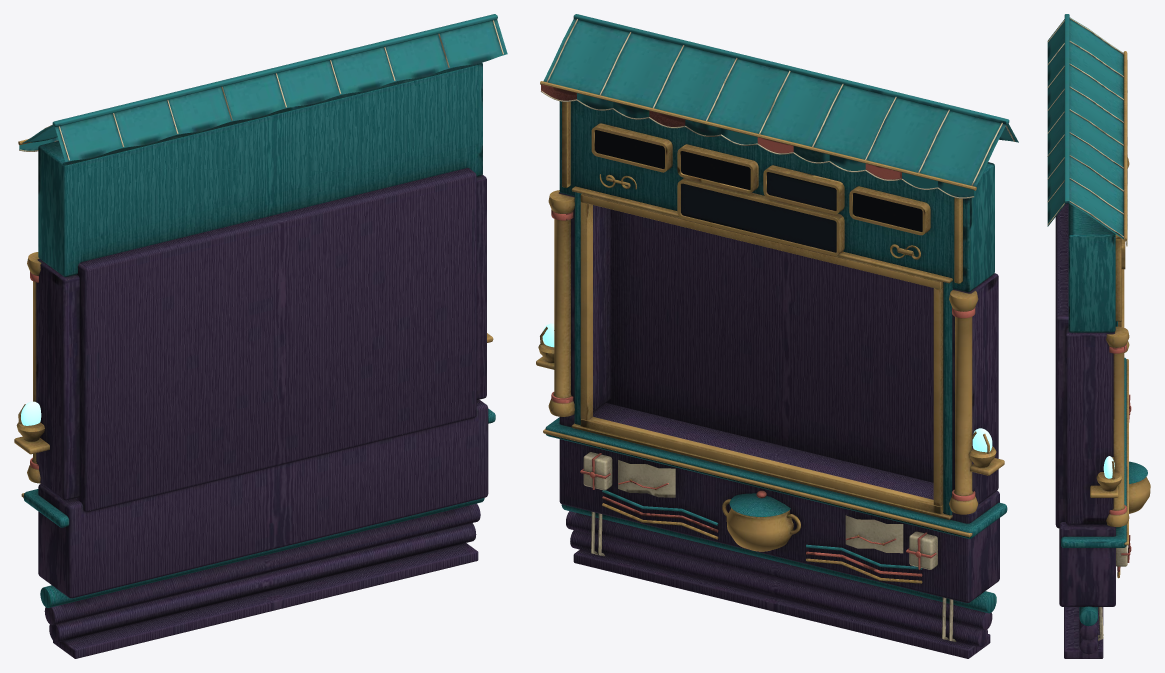
3 renders of one model, left to right at view 1: azimuth 30°, elevation 25°; view 2: azimuth 150°, elevation 25°; view 3: azimuth 270°, elevation 25°, orthographic. The views are drawn at different scales.
Parts seen in each view (by area): view 1: Violet_raft_timber, Coastal_teal_timber, Teal_woven_canvas, Salt_worn_brass, Ivory_paper_and_rope; view 2: Violet_raft_timber, Salt_worn_brass, Teal_woven_canvas, Coastal_teal_timber, Uniform_display_face, Ivory_paper_and_rope, Coral_canvas_binding; view 3: Violet_raft_timber, Teal_woven_canvas, Coastal_teal_timber, Salt_worn_brass, Ivory_paper_and_rope, Coral_canvas_binding, Sea_glass_hearth_glow.
Boxes of the visible parts, left/top/right/bottom form: Violet_raft_timber: left=36, top=168, right=488, bottom=658; Coastal_teal_timber: left=23, top=63, right=495, bottom=607; Teal_woven_canvas: left=19, top=14, right=507, bottom=161; Salt_worn_brass: left=14, top=139, right=493, bottom=497; Ivory_paper_and_rope: left=19, top=20, right=503, bottom=160; Violet_raft_timber: left=559, top=192, right=999, bottom=658; Salt_worn_brass: left=536, top=81, right=1004, bottom=583; Teal_woven_canvas: left=543, top=14, right=1018, bottom=569; Coastal_teal_timber: left=545, top=100, right=1007, bottom=613; Uniform_display_face: left=595, top=130, right=922, bottom=252; Ivory_paper_and_rope: left=541, top=19, right=1014, bottom=641; Coral_canvas_binding: left=541, top=84, right=975, bottom=576; Violet_raft_timber: left=1055, top=203, right=1115, bottom=658; Teal_woven_canvas: left=1047, top=14, right=1123, bottom=238; Coastal_teal_timber: left=1061, top=203, right=1147, bottom=626; Salt_worn_brass: left=1090, top=51, right=1150, bottom=578; Ivory_paper_and_rope: left=1047, top=18, right=1127, bottom=640; Coral_canvas_binding: left=1109, top=344, right=1131, bottom=572; Sea_glass_hearth_glow: left=1103, top=456, right=1114, bottom=478.
Bounding box in the file's own units: 8.98 × 10 × 2.
Materials: 8 (7 with a texture image).
